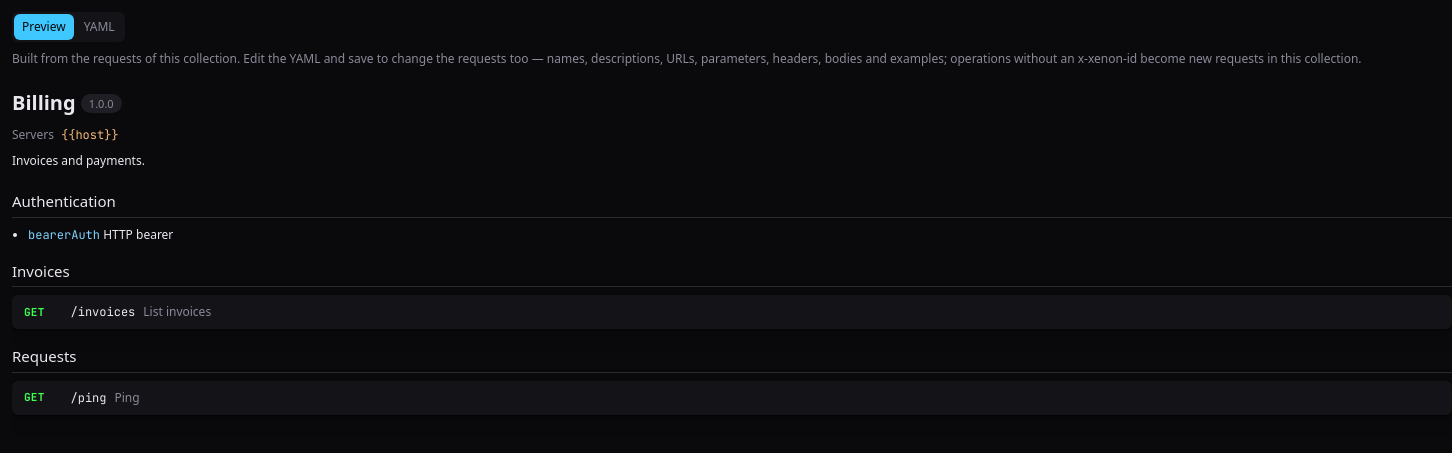
Test: DocumentationPanel › switches between the preview and the YAML editor
This screenshot has width=1452, height=453.
What coordinates should you click on to do the following:
click the button "YAML"
I would click on:
 (99, 27)
Its box is top-left (76, 14), bottom-right (123, 40).
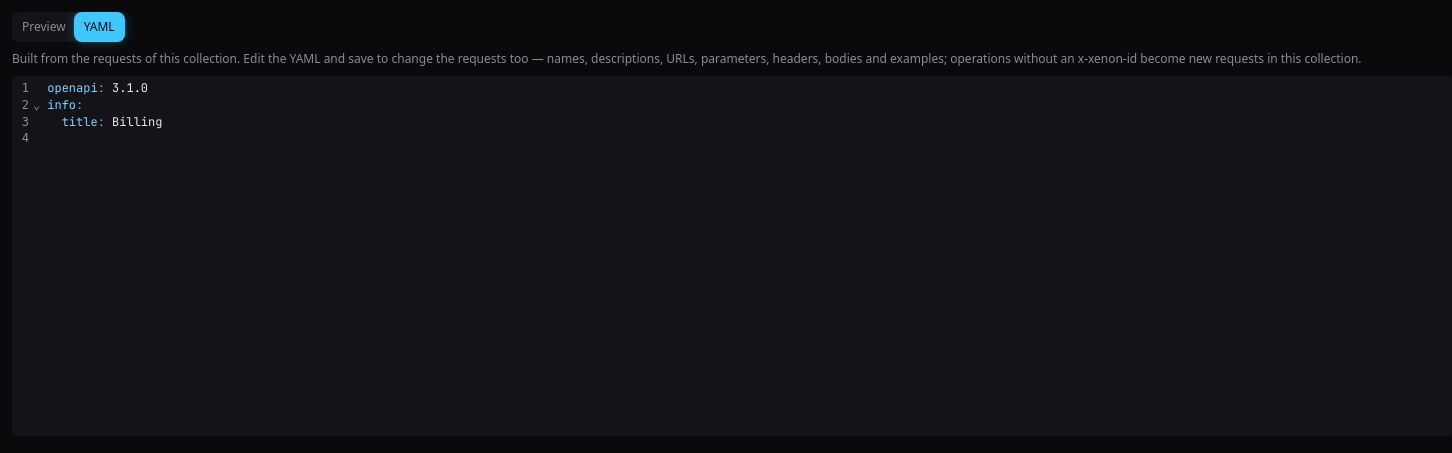
expect the field named "OpenAPI document" shows "title: Billing": met, box top-left (47, 80), bottom-right (162, 130)
What coordinates should you click on to do the following:
click the button "Preview"
I would click on:
 (44, 27)
Its box is top-left (14, 14), bottom-right (74, 40).
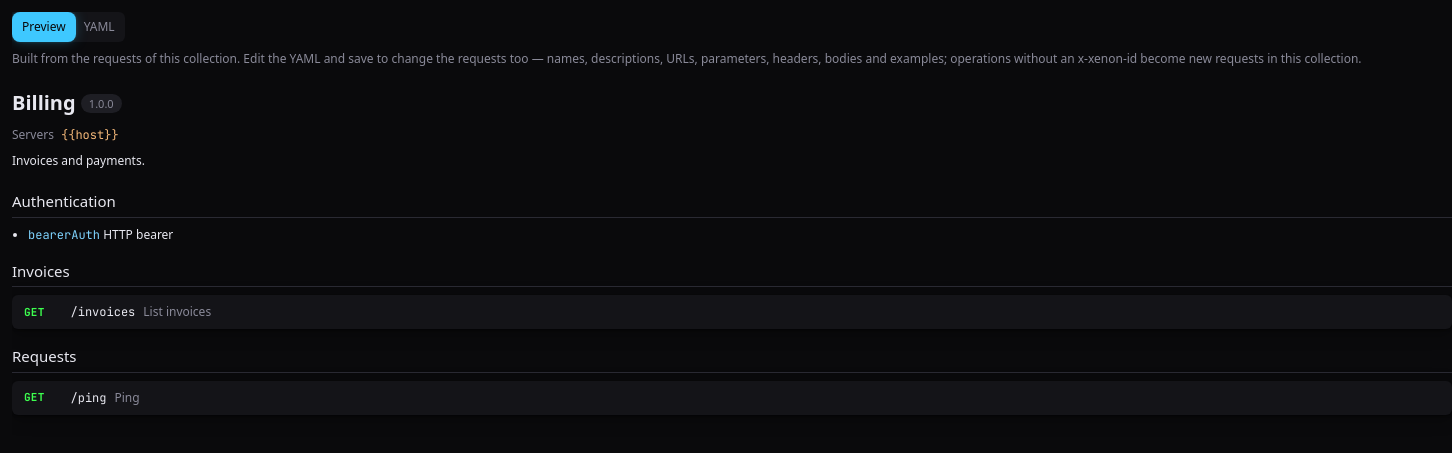
expect the element named "Billing API documentation" is shown: met
